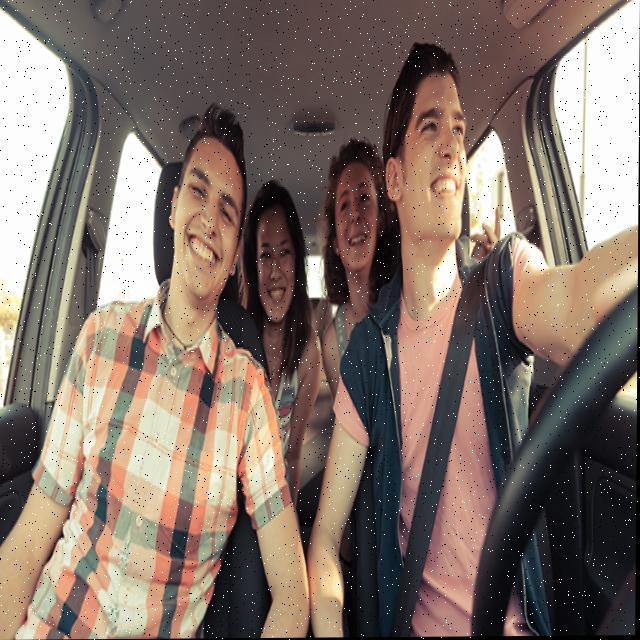noSeatbelt: (31, 255, 271, 640)
seatbelt: (348, 220, 492, 638)
